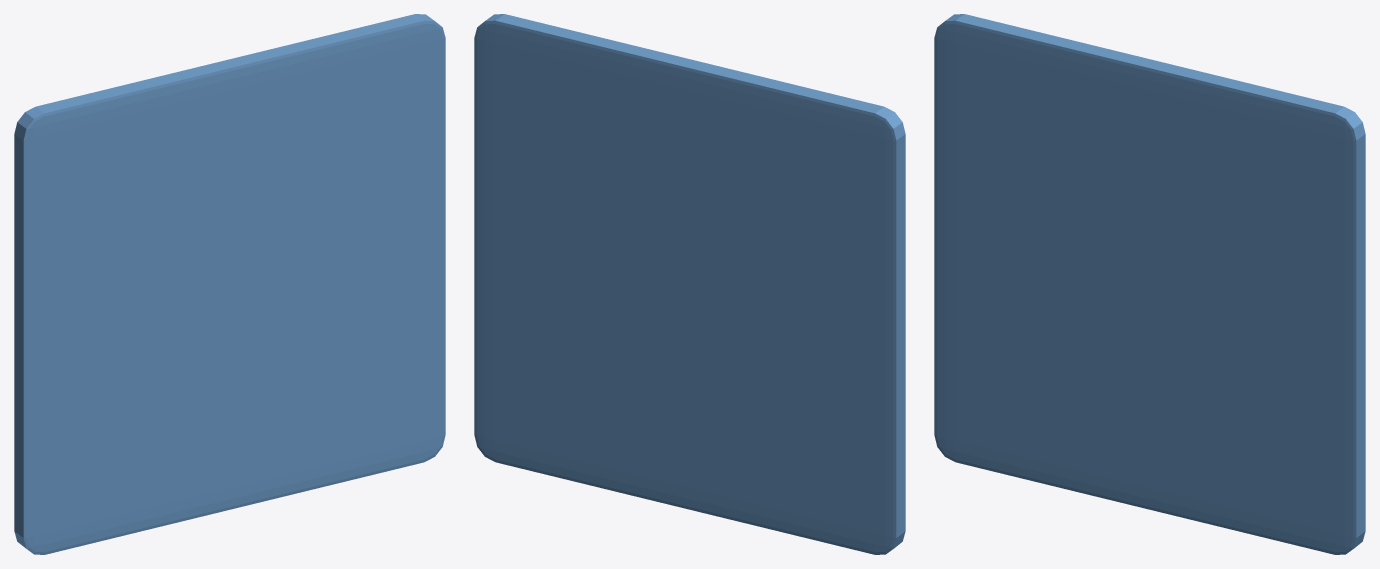
File: buy_preview.fbx
3 views of the same model, side by side, from view 1: azimuth 30°, elevation 25°; view 2: azimuth 150°, elevation 25°; view 3: azimuth 330°, elevation 25° (orthographic).
Parts seen in each view (by area): view 1: Cube; view 2: Cube; view 3: Cube.
Boxes of the visible parts, <box> form: Cube: <box>14,14,445,554</box>; Cube: <box>474,14,905,554</box>; Cube: <box>934,14,1365,554</box>.
Bounding box in the file's own units: 23.8 × 23.8 × 1.
